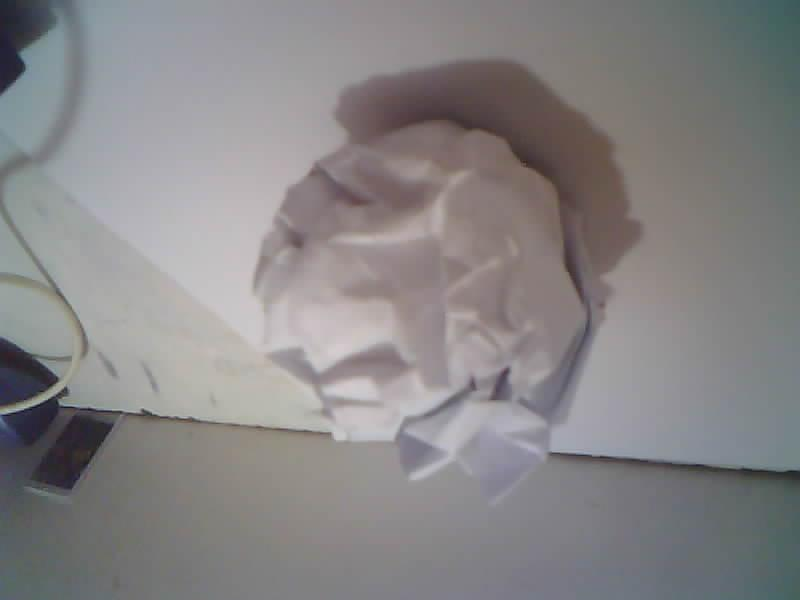biodegradable: (253, 121, 602, 502)
